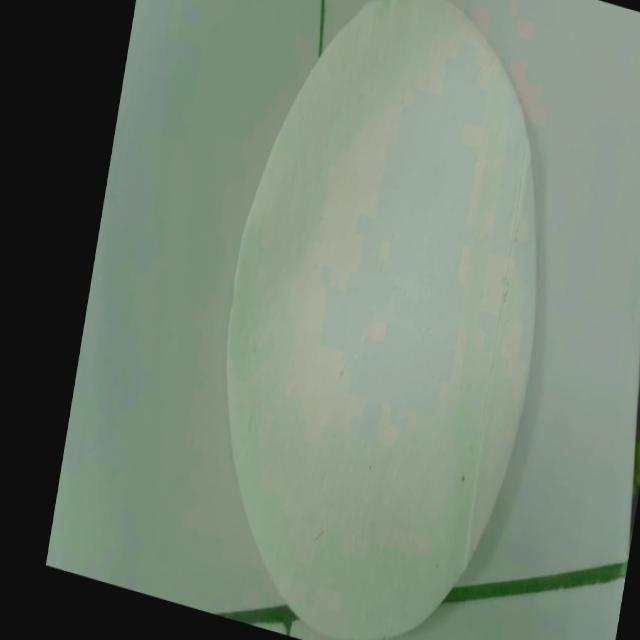Filter paper: (188, 0, 589, 640)
